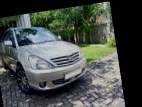car: (0, 17, 90, 98)
